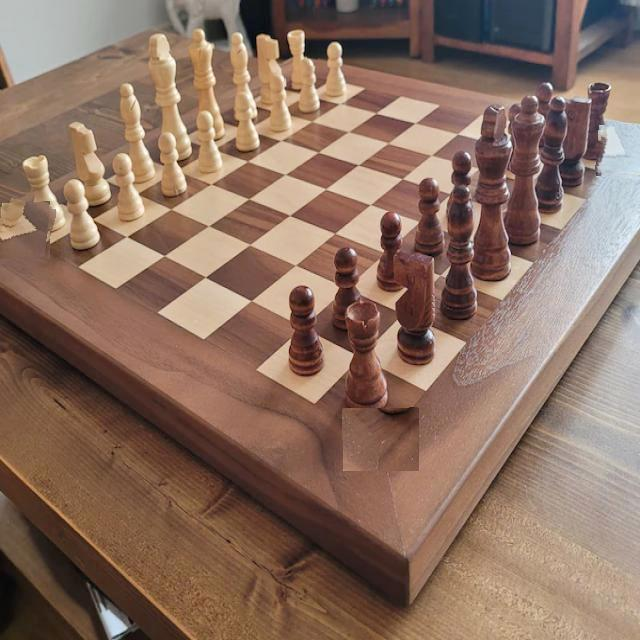chess-table-corners: (343, 408, 419, 471), (0, 201, 53, 262), (596, 123, 640, 177), (284, 42, 318, 87)
